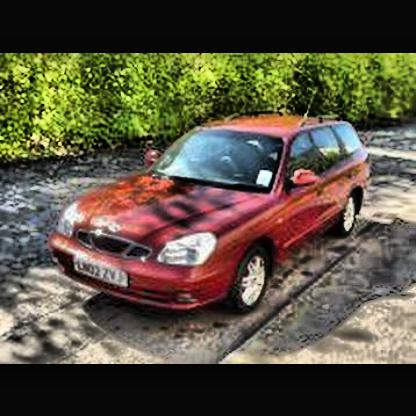Daewoo Nubira Wagon 2002: (52, 81, 375, 318)
